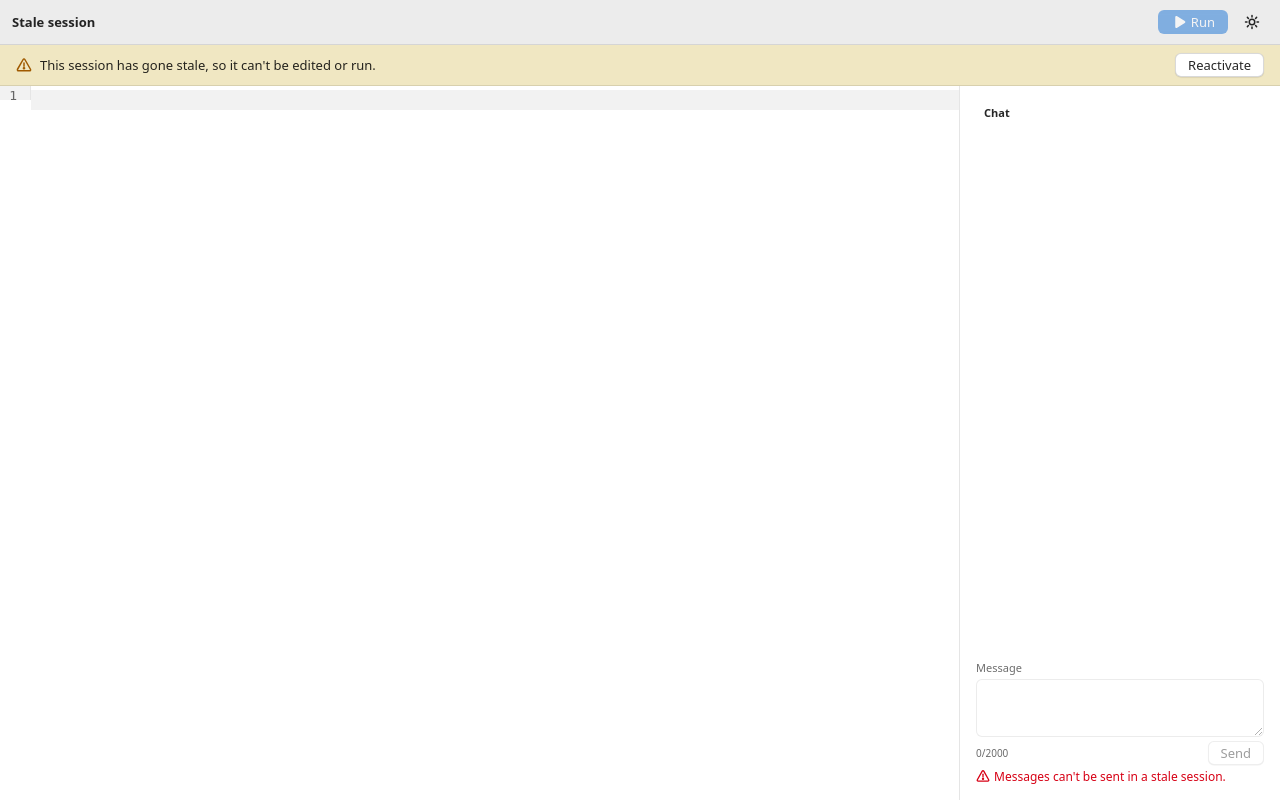
Scenario: SessionWindow, stale (spec 003 FR-12) › FR-3: a reactivation the server refuses keeps the banner and says so beside the button
Click the button "Reactivate": click(1220, 65) [1175,53,1264,77]
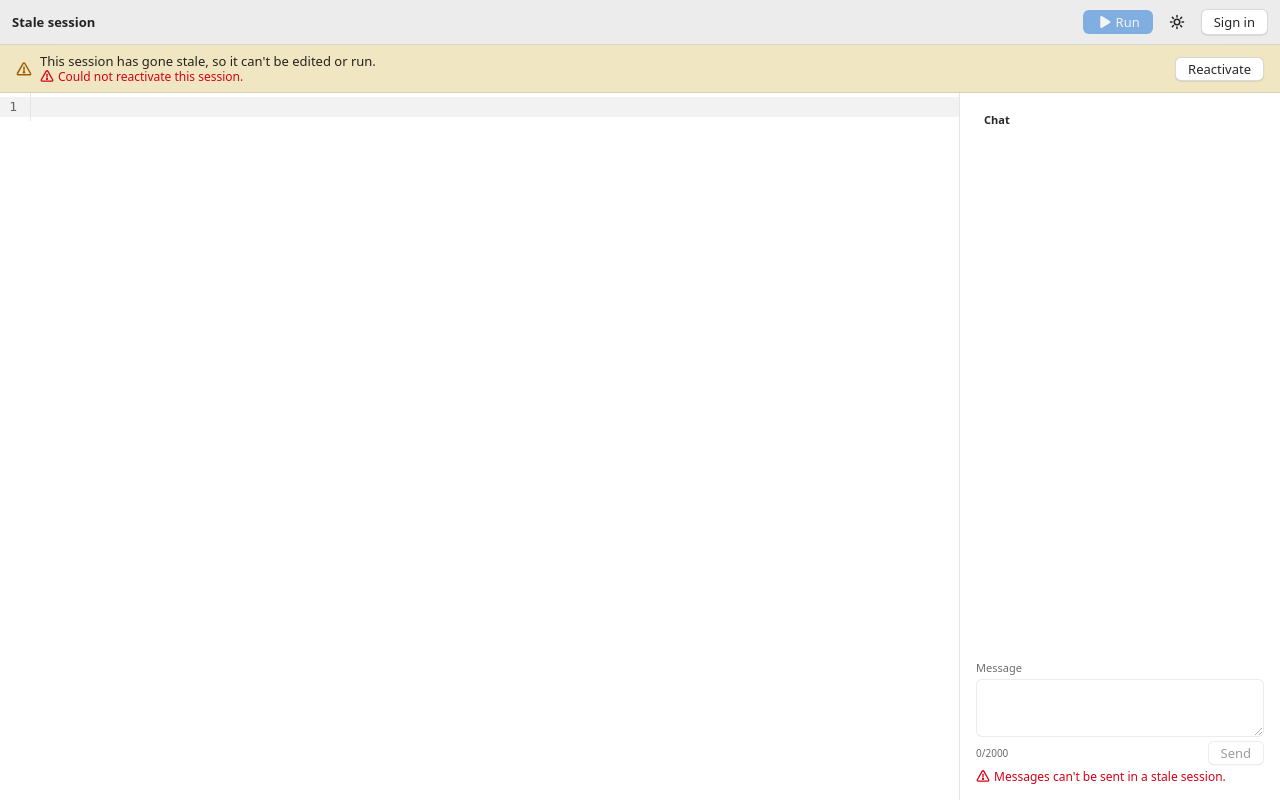
Expected: the text "Could not reactivate this session." is shown, [58,69,243,84]
